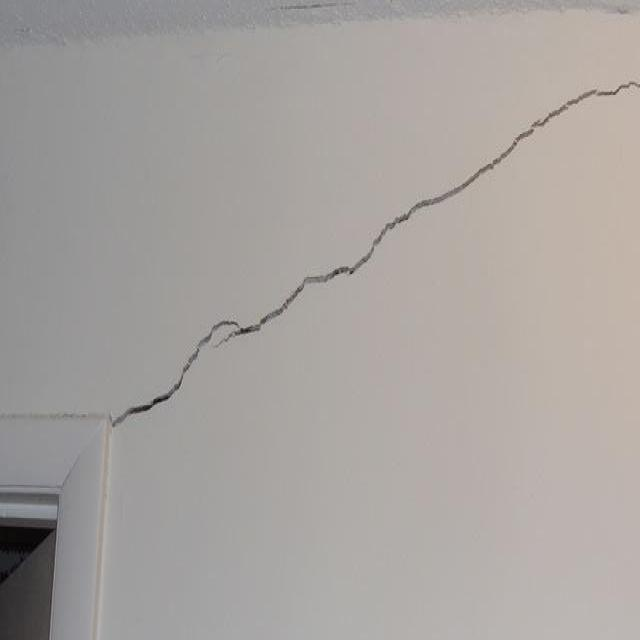crack: (359, 131, 533, 262), (114, 321, 239, 427), (230, 266, 352, 339), (527, 81, 639, 130)
